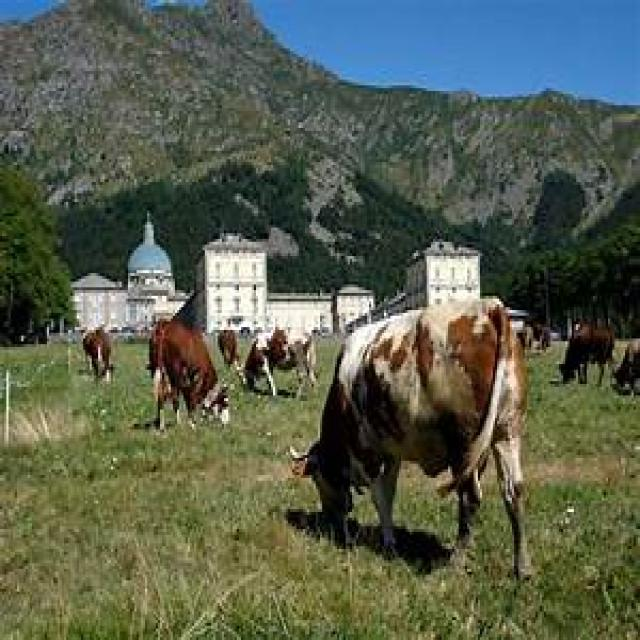cow: (296, 300, 532, 578), (150, 313, 230, 429), (239, 325, 315, 397), (560, 322, 614, 384), (82, 327, 110, 381), (219, 332, 239, 366)
